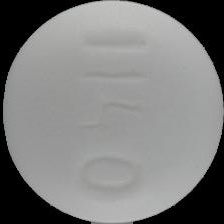0093-5352: (0, 0, 224, 224)
